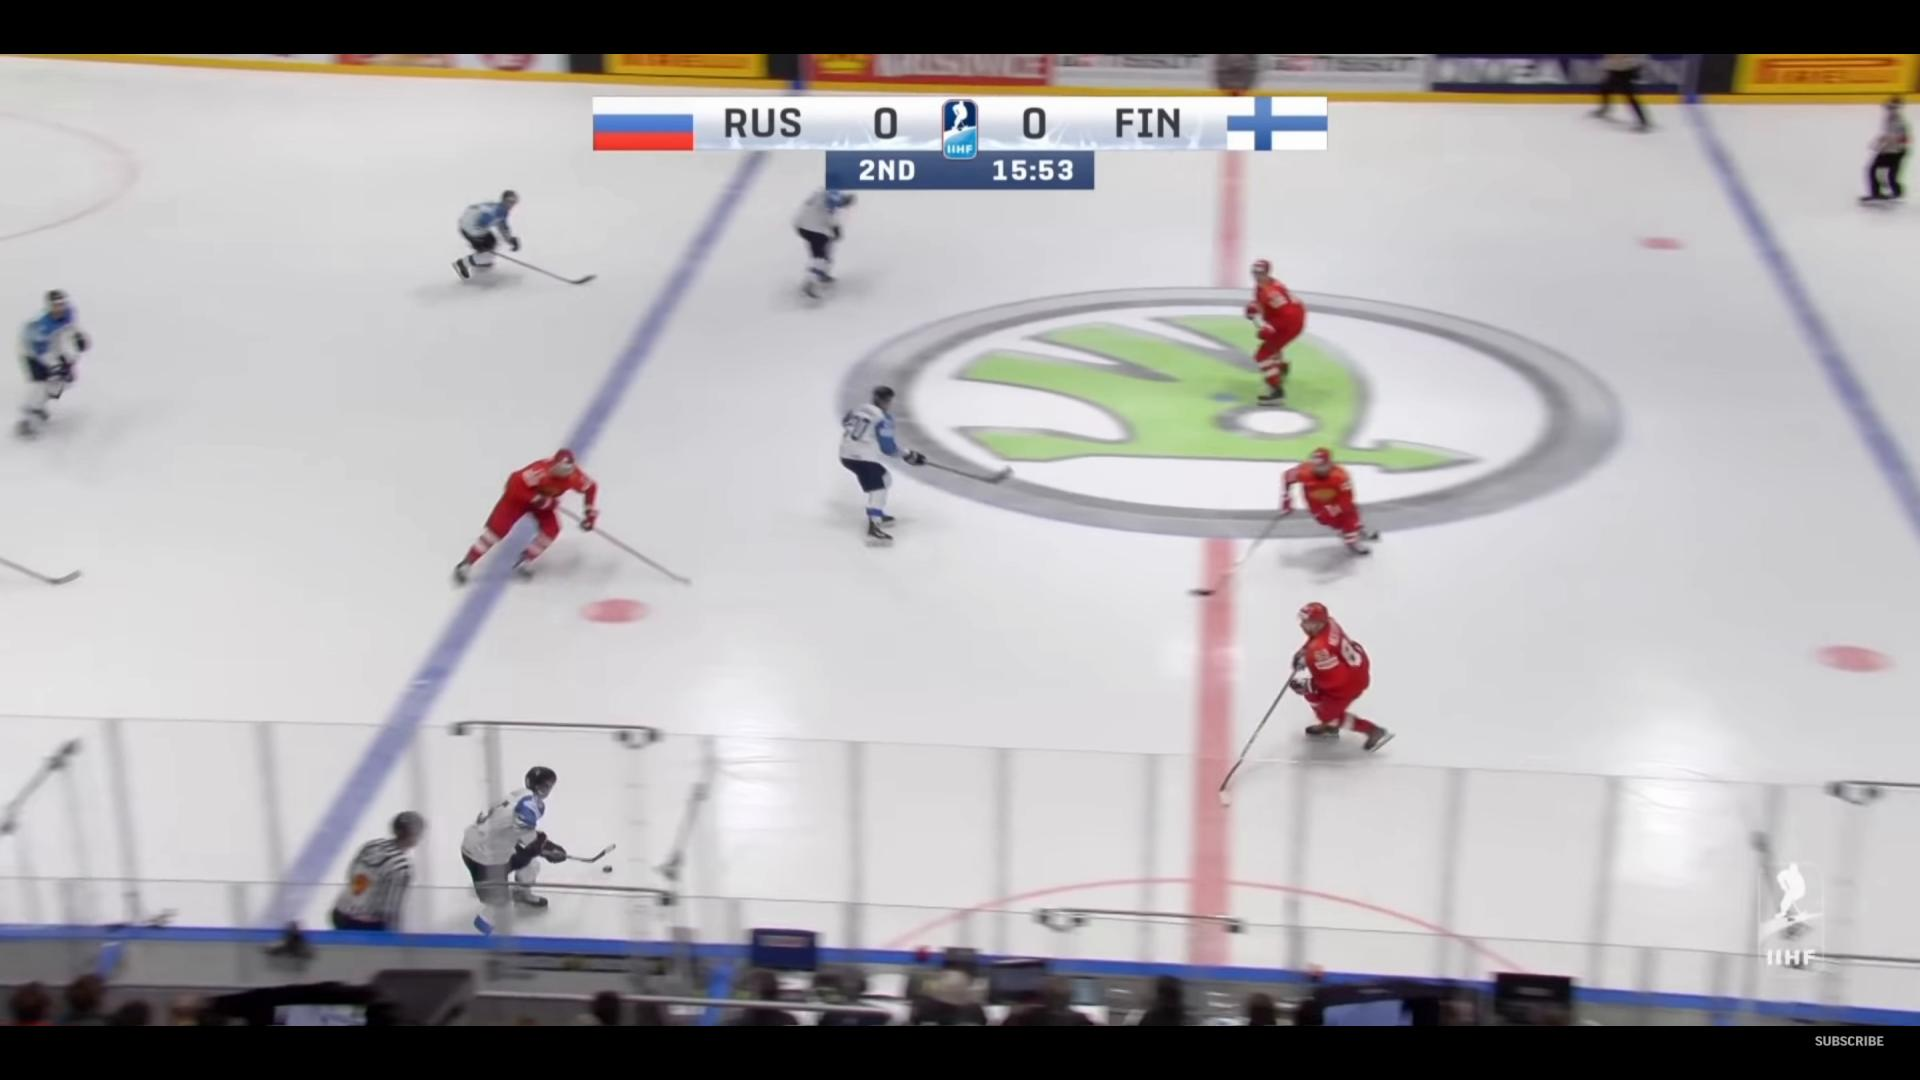puck: (601, 865, 613, 873)
